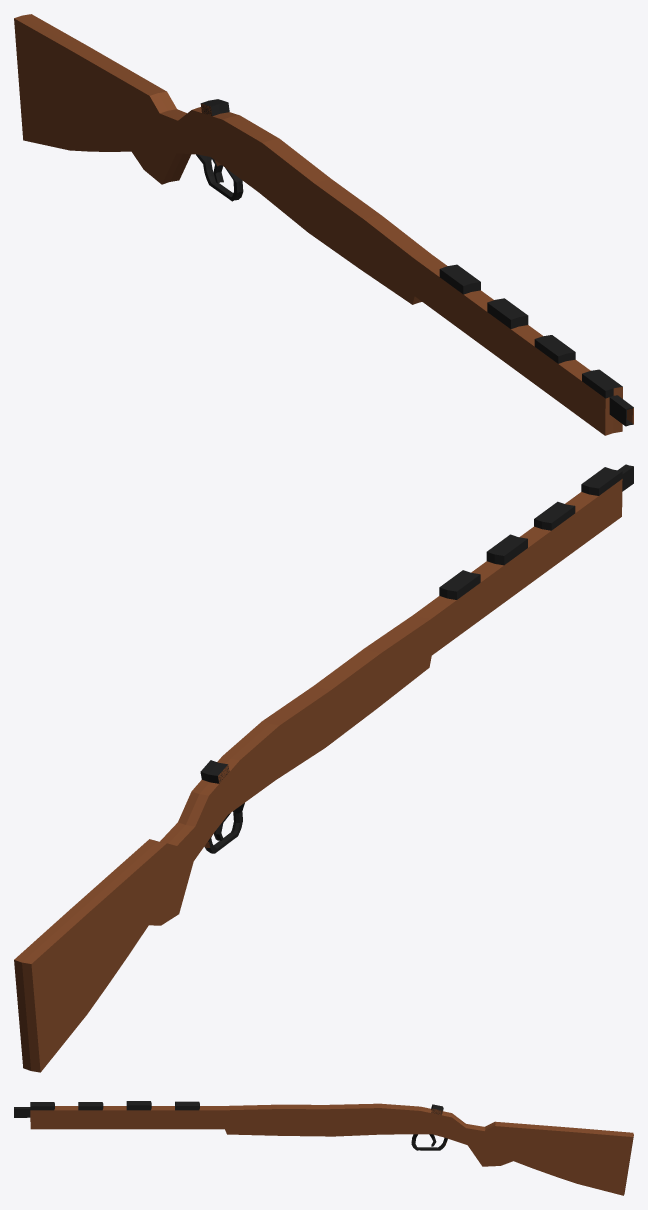
File: ShotGun.fbx
3 views of the same model, one above another, from view 1: azimuth 30°, elevation 25°; view 2: azimuth 150°, elevation 25°; view 3: azimuth 270°, elevation 25° (orthographic). The views are drawn at different scales.
Visible parts, largest first — view 1: Plane; view 2: Plane; view 3: Plane.
Part boxes in pixels (bbox=[...]): Plane: bbox=[14, 14, 633, 435]; Plane: bbox=[14, 464, 633, 1072]; Plane: bbox=[14, 1101, 633, 1195].
Size of the model in its own units: 7.39 by 71.68 by 445.
